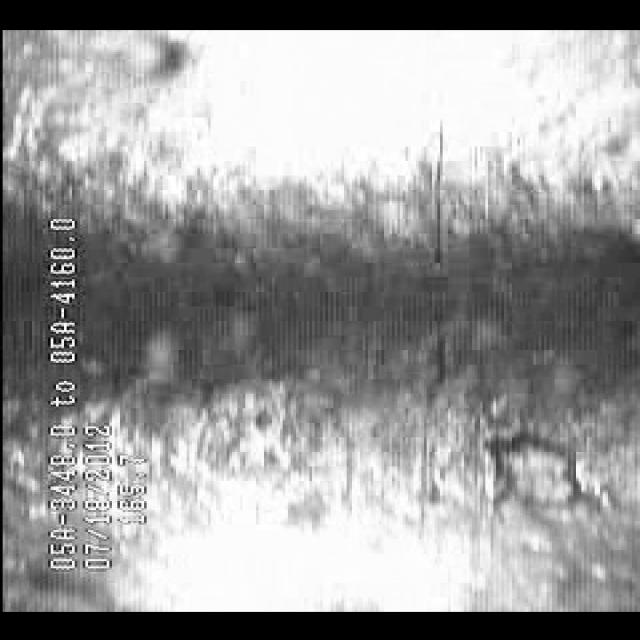Crack: (383, 143, 552, 576)
